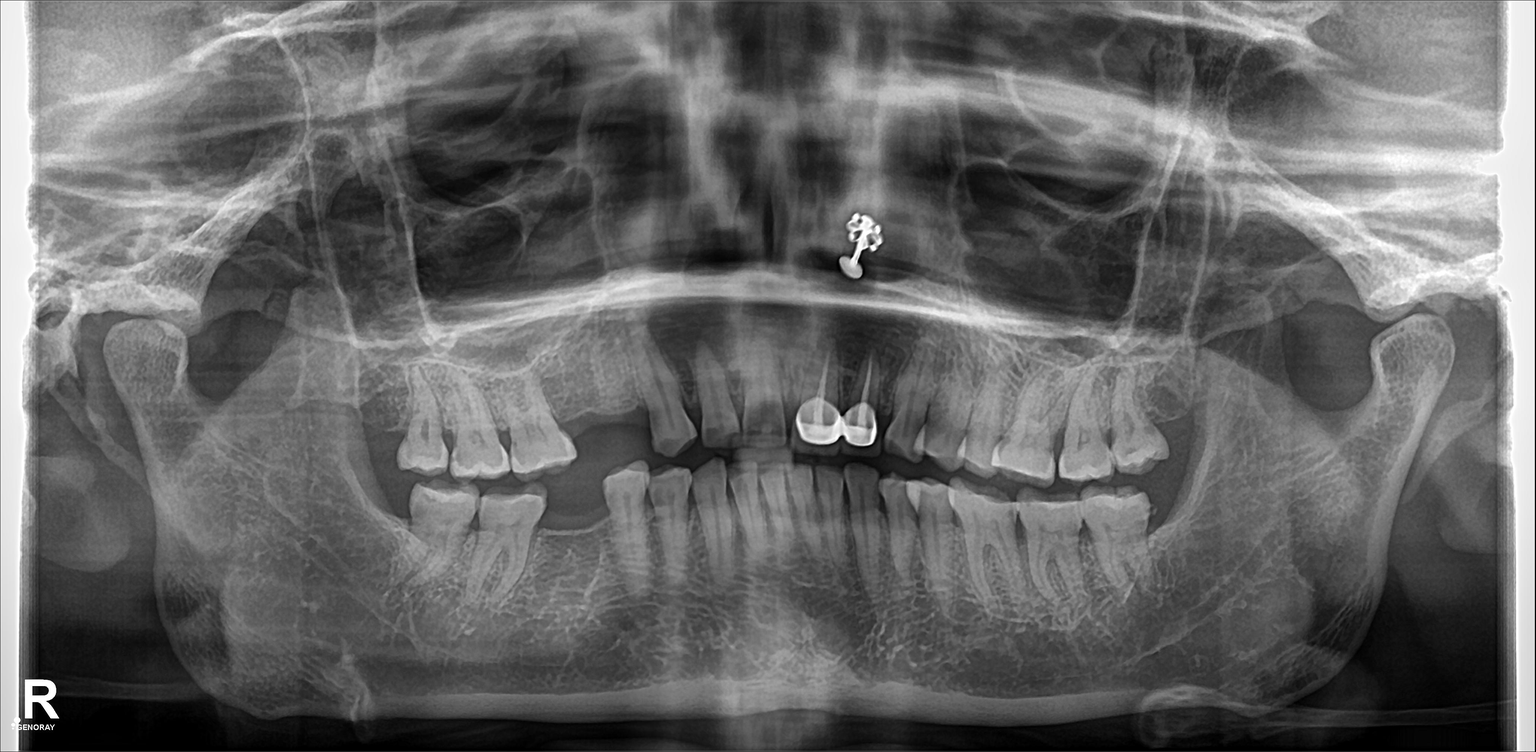Dental Caries: (745, 398, 790, 441)
Endodontically Treated Tooth: (836, 356, 886, 451), (797, 352, 846, 448)
Missing Tooth: (596, 344, 648, 453), (549, 482, 603, 584), (557, 359, 602, 462), (367, 367, 407, 478), (1153, 359, 1196, 453), (359, 488, 410, 565), (1143, 488, 1198, 559)
